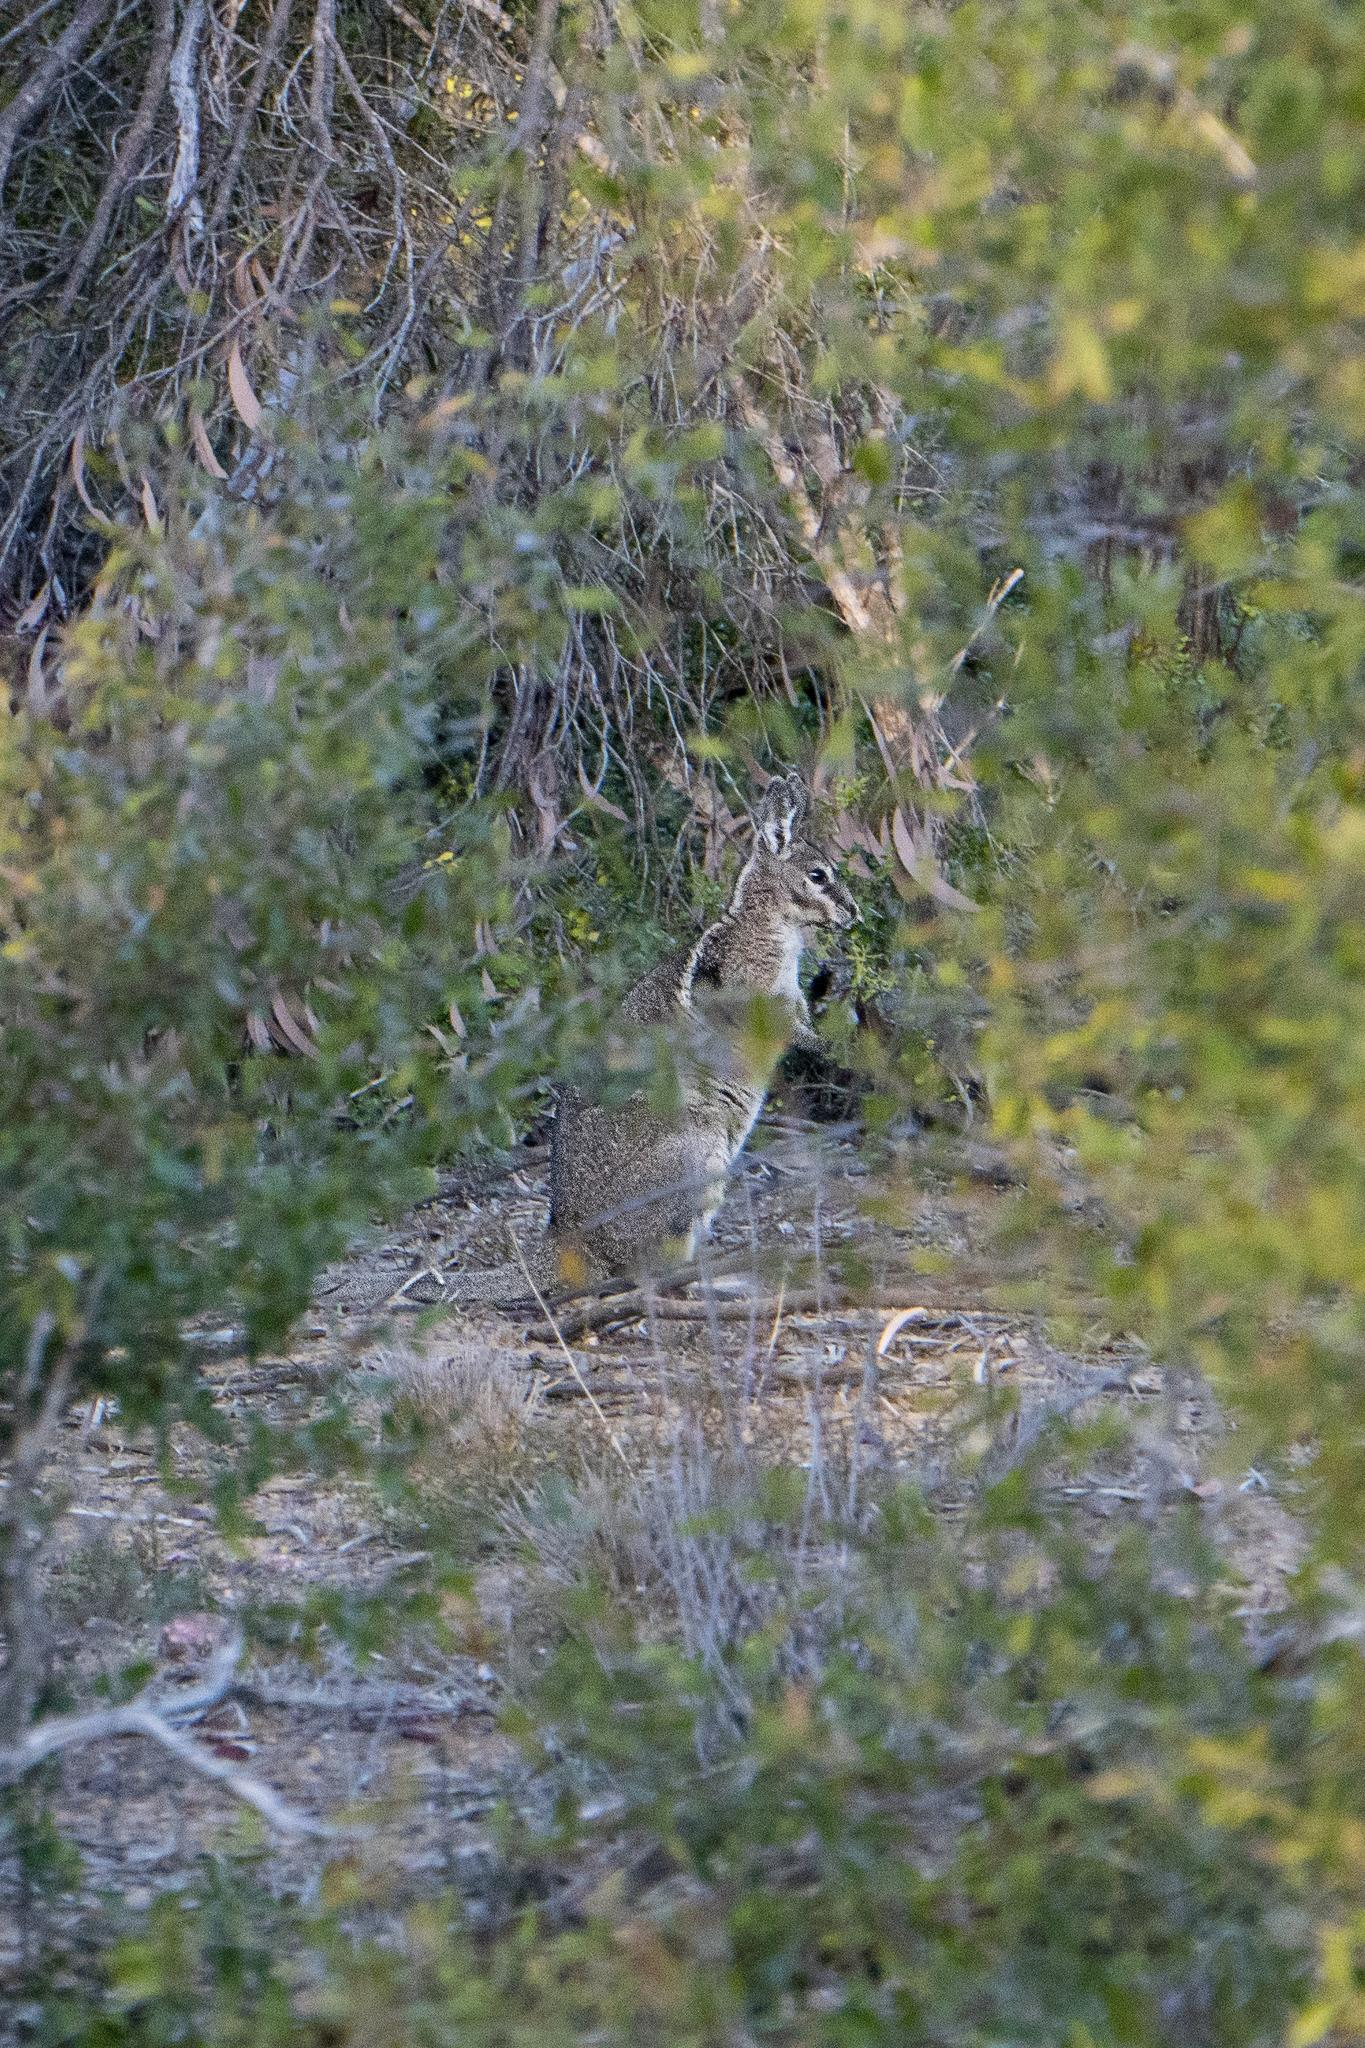Bridled-nail-tail wallaby: (261, 774, 861, 1314)
